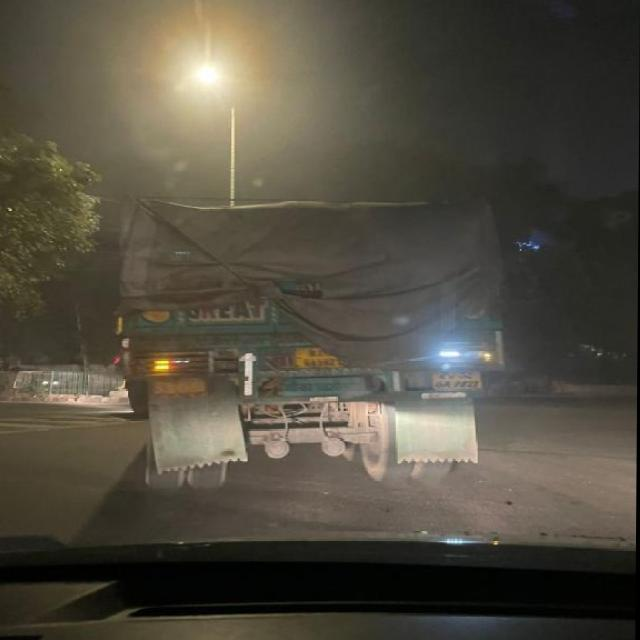covered: (124, 173, 504, 468)
